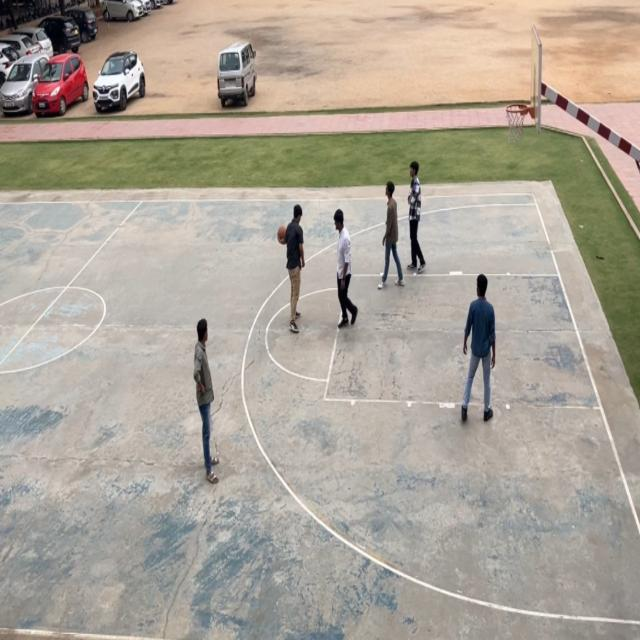basketball: (276, 223, 286, 244)
hoop: (505, 103, 530, 147)
